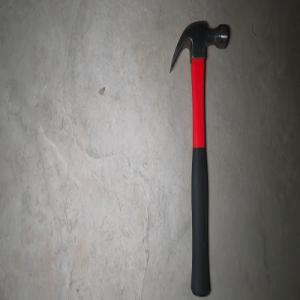Hammer: (169, 18, 230, 298)
